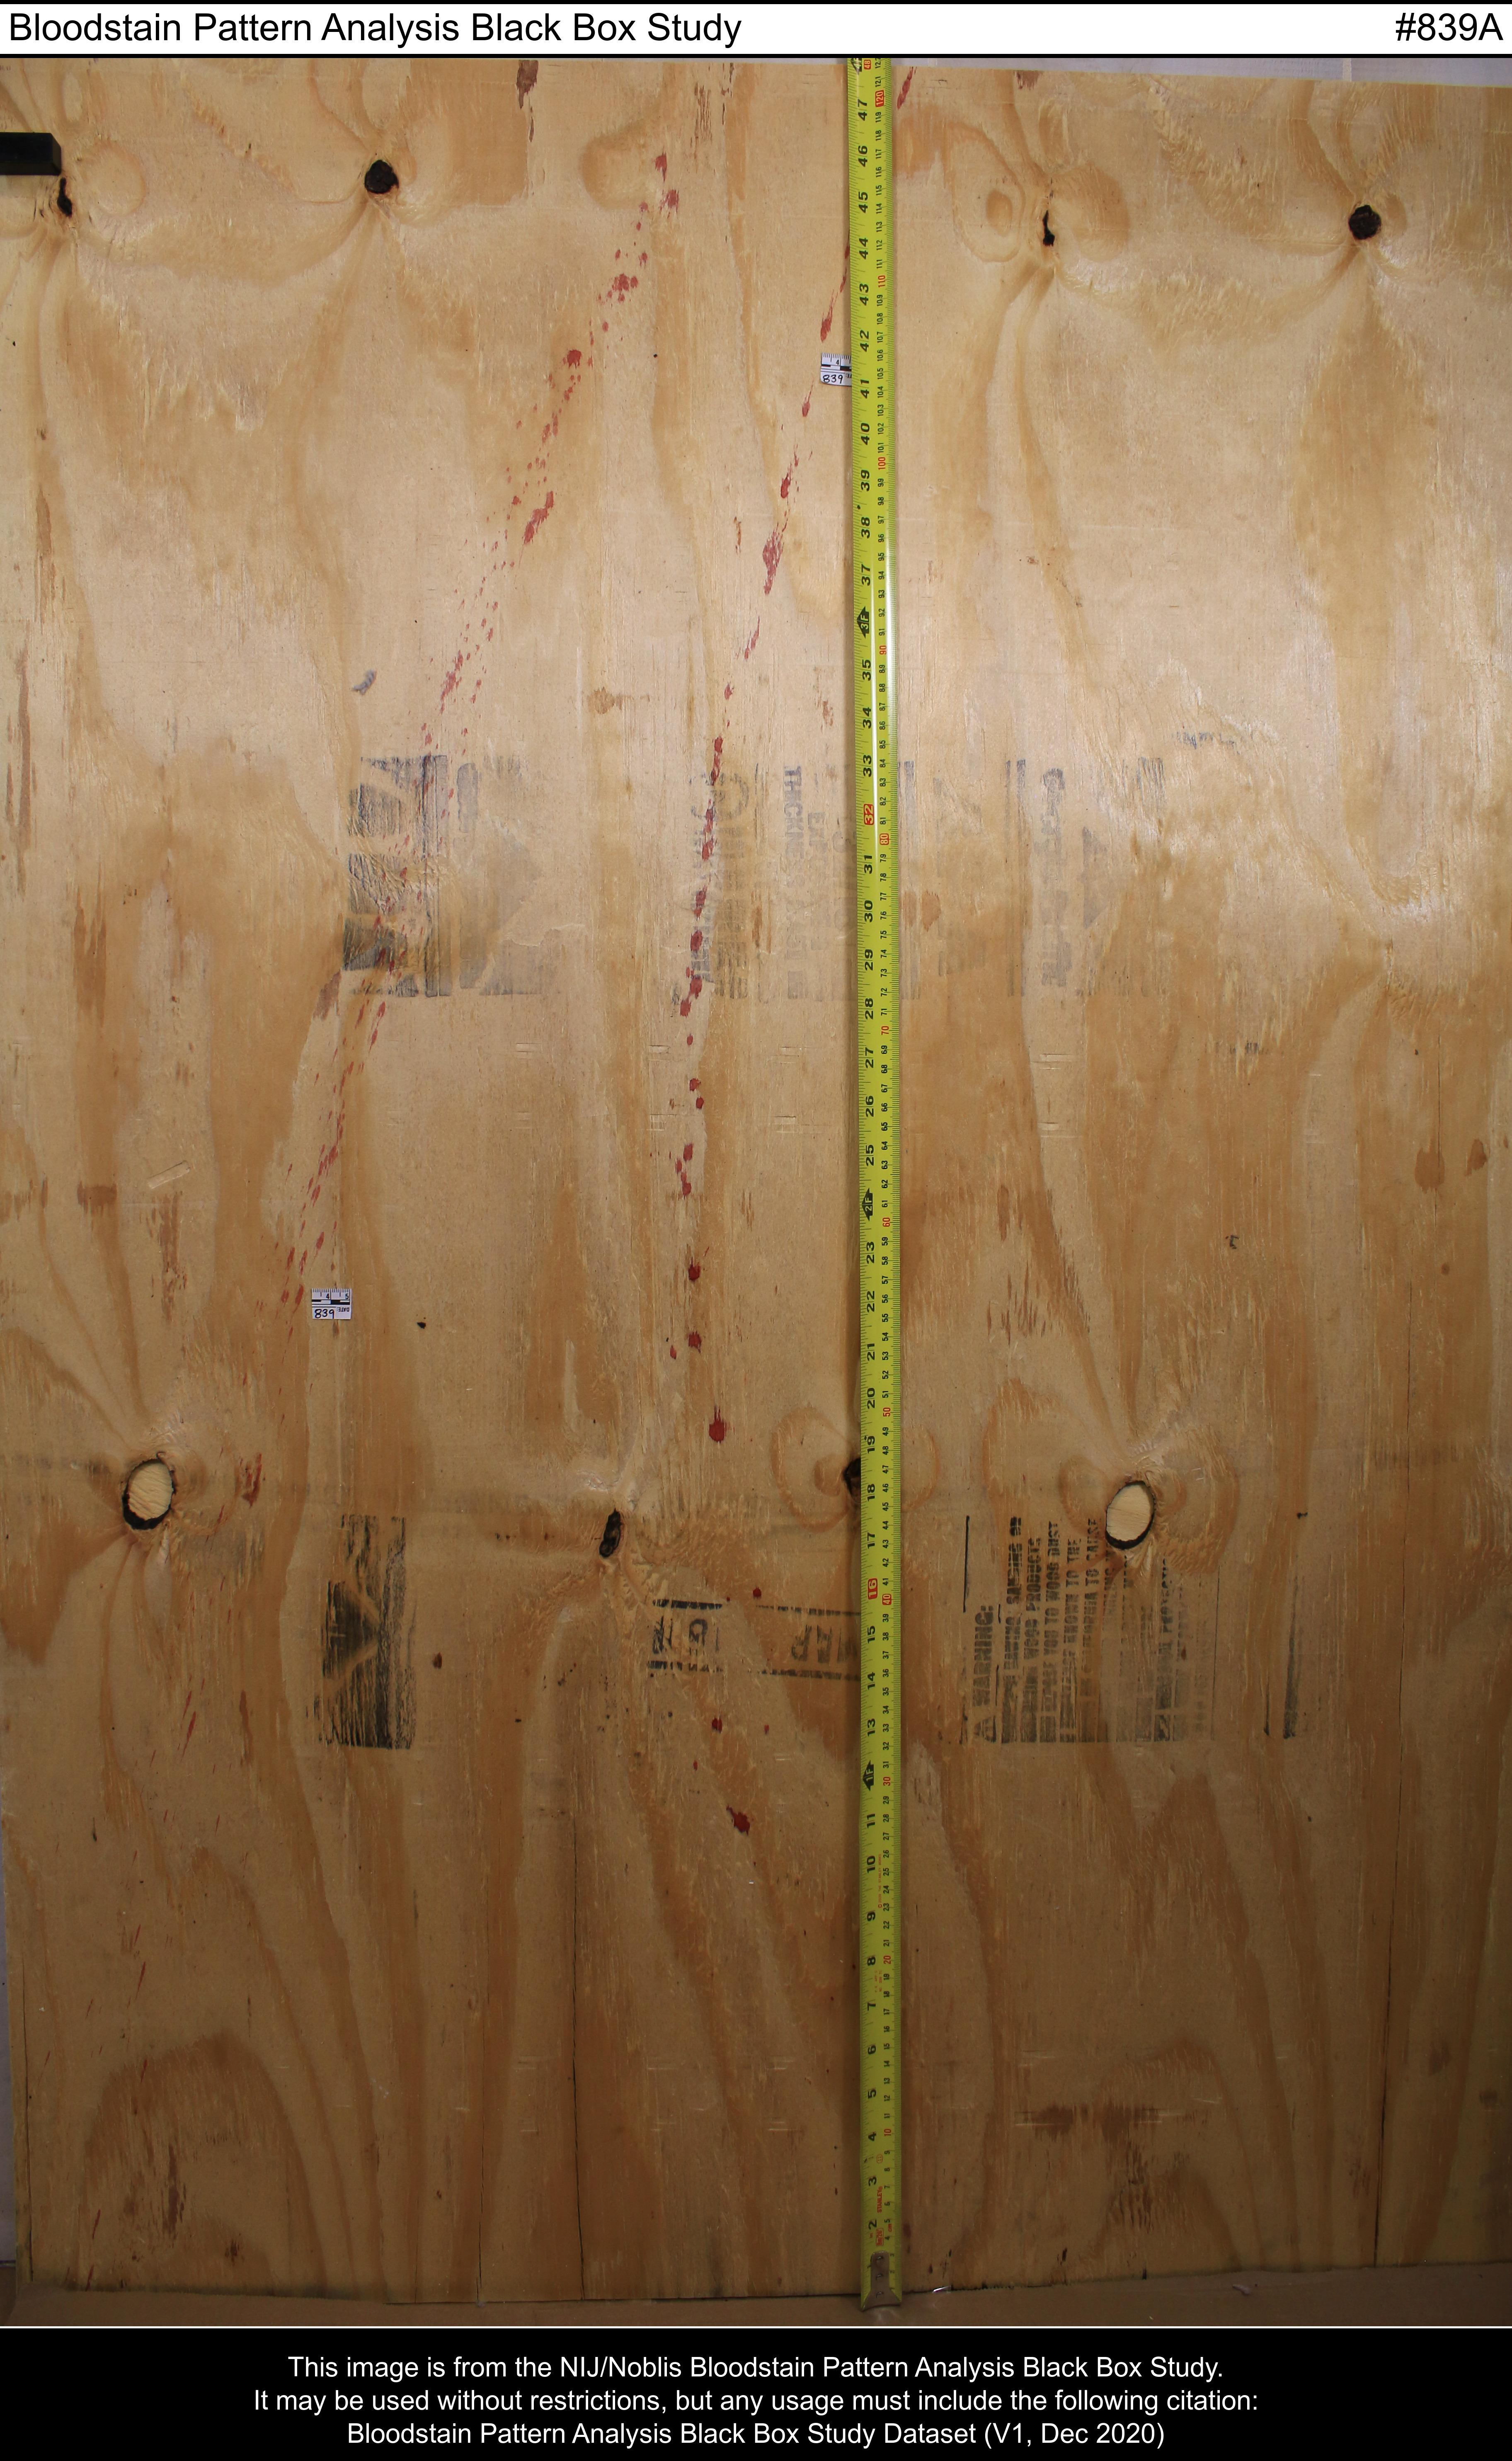Impact: (223, 69, 849, 1881)
